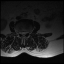CCS_normal: (22, 30, 24, 37)
LFS_stenosis: (26, 30, 28, 35)
LLS_normal: (24, 30, 26, 36)
RFS_normal: (18, 30, 20, 35)
RLS_normal: (20, 30, 22, 35)
